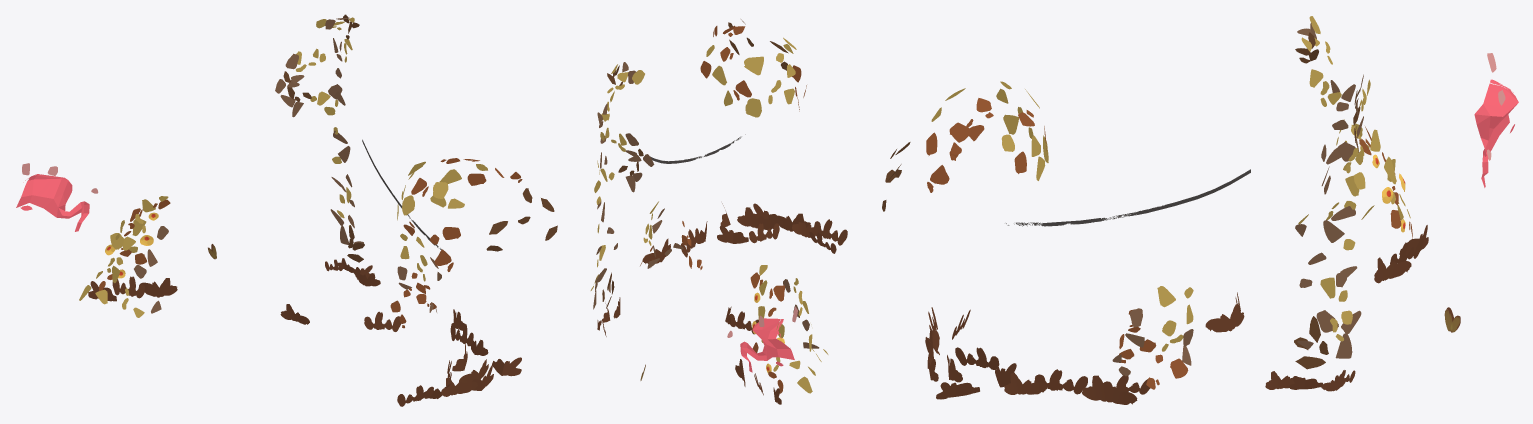
File: polysurface55_blinn3_0.001_lev2.glb
3 views of the same model, side by side, from view 1: azimuth 30°, elevation 25°; view 2: azimuth 150°, elevation 25°; view 3: azimuth 270°, elevation 25° (orthographic). The views are drawn at different scales.
Parts seen in each view (by area): view 1: polysurface55_blinn3_0.001_lev2; view 2: polysurface55_blinn3_0.001_lev2; view 3: polysurface55_blinn3_0.001_lev2.
Boxes of the visible parts, <box> form: polysurface55_blinn3_0.001_lev2: <box>16,14,557,406</box>; polysurface55_blinn3_0.001_lev2: <box>590,19,847,404</box>; polysurface55_blinn3_0.001_lev2: <box>882,16,1518,404</box>.
Bounding box in the file's own units: 28.77 × 24.43 × 39.17.
1 material, 1 textured.
